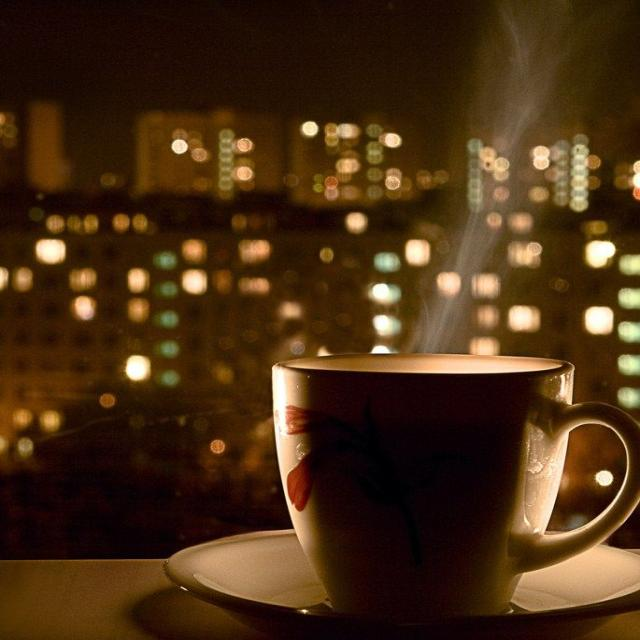Cup: (167, 331, 640, 640)
